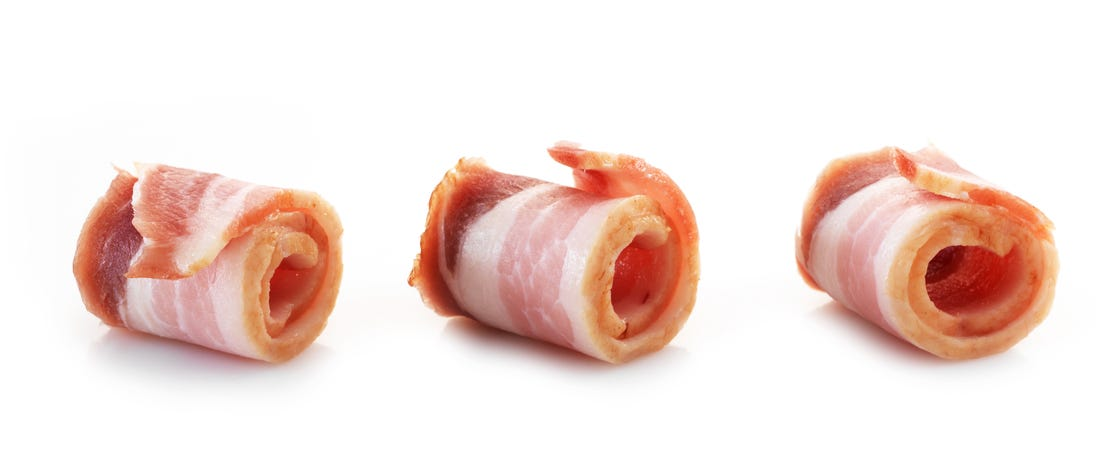bacon: (407, 143, 718, 383), (56, 153, 367, 375), (800, 128, 1074, 373)
